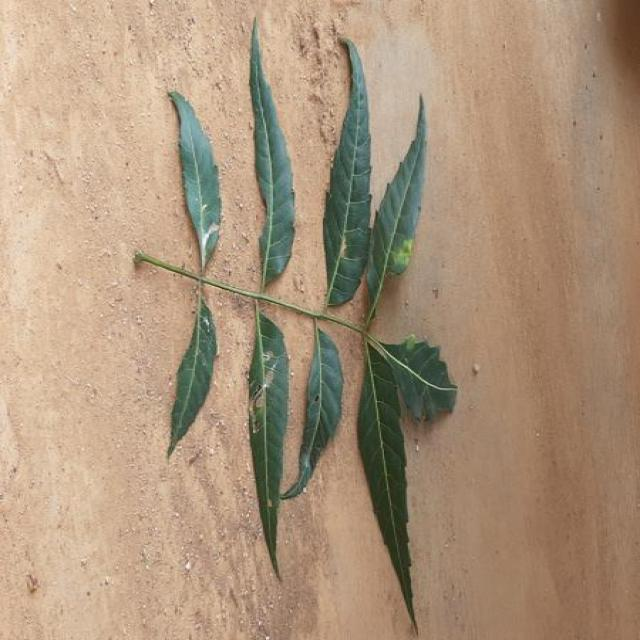neem: (135, 24, 457, 617)
